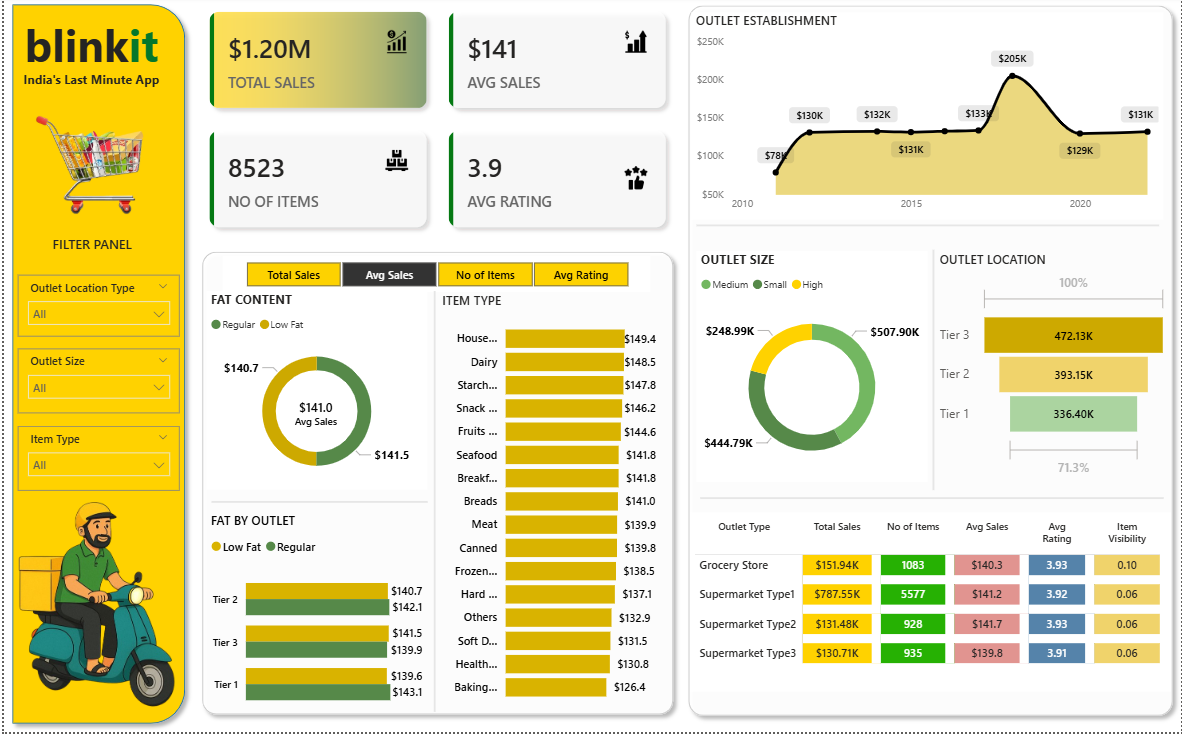

Layout of this report page (visuals, bound fields, positions):
{"tool":"powerbi","page":{"name":"Page 1","canvas":[1280,800],"ordinal":0},"visuals":[{"type":"shape","box":[0,0,206,800],"z":0},{"type":"textbox","box":[252.7,394.6,263.5,141.9],"z":1000},{"type":"textbox","box":[17.6,14.9,164.9,82.4],"z":2000},{"type":"textbox","box":[16.2,75.7,159.5,35.1],"z":3000},{"type":"shape","box":[206,268.7,529.9,520.9],"z":4000},{"type":"donutChart","title":"FAT CONTENT","fields":{"Y":["BlinkIT Grocery Data.Avg Sales"],"Category":["BlinkIT Grocery Data.Item Fat Content"]},"box":[220,321.2,240,216.2],"z":5000},{"type":"slicer","fields":{"Values":["Metrics.Metrics"]},"box":[237.8,282.6,464.7,39.4],"z":6000},{"type":"cardVisual","fields":{"Data":["BlinkIT Grocery Data.Avg Sales"]},"box":[293.8,421.2,91.2,61.2],"z":7000},{"type":"clusteredBarChart","title":"FAT BY OUTLET","fields":{"Y":["BlinkIT Grocery Data.Avg Sales"],"Category":["BlinkIT Grocery Data.Outlet Location Type"],"Series":["BlinkIT Grocery Data.Item Fat Content"]},"box":[220,561.2,240,230],"z":8000},{"type":"shape","box":[225,521.2,235,56.2],"z":9000},{"type":"shape","box":[446.2,320,45,457.5],"z":10000},{"type":"barChart","title":"ITEM TYPE","fields":{"Y":["BlinkIT Grocery Data.Avg Sales"],"Category":["BlinkIT Grocery Data.Item Type"]},"box":[471.2,322.5,242.5,455],"z":11000},{"type":"shape","box":[735.7,1.4,544.3,790],"z":12000},{"type":"lineChart","title":"OUTLET ESTABLISHMENT","fields":{"Y":["BlinkIT Grocery Data.Total Sales"],"Category":["BlinkIT Grocery Data.Outlet Establishment Year"]},"box":[747.1,17.1,512.9,225.7],"z":13000},{"type":"shape","box":[752.9,221.4,502.9,55.7],"z":14000},{"type":"donutChart","title":"OUTLET SIZE","fields":{"Y":["BlinkIT Grocery Data.Total Sales"],"Category":["BlinkIT Grocery Data.Outlet Size"]},"box":[752.5,277.5,251.2,251.2],"z":15000},{"type":"shape","box":[987.5,276.2,45,261.2],"z":16000},{"type":"funnel","title":"OUTLET LOCATION","fields":{"Category":["BlinkIT Grocery Data.Outlet Location Type"],"Y":["Sum(BlinkIT Grocery Data.Sales)"]},"box":[1012.5,277.5,257.5,251.2],"z":17000},{"type":"shape","box":[756.2,517.5,503.8,56.2],"z":18000},{"type":"pivotTable","fields":{"Values":["BlinkIT Grocery Data.Total Sales","BlinkIT Grocery Data.No of Items","BlinkIT Grocery Data.Avg Sales","BlinkIT Grocery Data.Avg Rating","Avg(BlinkIT Grocery Data.Item Visibility)"],"Rows":["BlinkIT Grocery Data.Outlet Type"]},"box":[746.2,561.2,522.5,195],"z":19000},{"type":"slicer","fields":{"Values":["BlinkIT Grocery Data.Outlet Location Type"]},"box":[15,302.5,176.2,67.5],"z":20000},{"type":"slicer","fields":{"Values":["BlinkIT Grocery Data.Outlet Size"]},"box":[15,382.5,176.2,70],"z":21000},{"type":"slicer","fields":{"Values":["BlinkIT Grocery Data.Item Type"]},"box":[15,467.5,176.2,70],"z":22000},{"type":"textbox","box":[32.6,255.4,126.4,40.8],"z":23000},{"type":"image","box":[0,510,206,290],"z":24000},{"type":"image","box":[17.8,98.9,158.9,156.7],"z":25000},{"type":"cardVisual","fields":{"Data":["BlinkIT Grocery Data.Total Sales","BlinkIT Grocery Data.Avg Sales","BlinkIT Grocery Data.No of Items","BlinkIT Grocery Data.Avg Rating"]},"box":[206,0,530,269],"z":26000}]}

Visuals, with their boxes in screenshot pixels (x1, y1, x2, y2), scaled from the page's 1280x800 canvas onto the 1182x735 screenshot:
shape: locate(0, 0, 190, 734)
textbox: locate(233, 363, 477, 493)
textbox: locate(16, 14, 169, 89)
textbox: locate(15, 70, 162, 102)
shape: locate(190, 247, 680, 725)
"FAT CONTENT" donutChart: locate(203, 295, 425, 494)
slicer - Metrics.Metrics: locate(220, 260, 649, 296)
cardVisual - BlinkIT Grocery Data.Avg Sales: locate(271, 387, 356, 443)
"FAT BY OUTLET" clusteredBarChart: locate(203, 516, 425, 727)
shape: locate(208, 479, 425, 530)
shape: locate(412, 294, 454, 714)
"ITEM TYPE" barChart: locate(435, 296, 659, 714)
shape: locate(679, 1, 1181, 727)
"OUTLET ESTABLISHMENT" lineChart: locate(690, 16, 1164, 223)
shape: locate(695, 203, 1160, 255)
"OUTLET SIZE" donutChart: locate(695, 255, 927, 486)
shape: locate(912, 254, 953, 494)
"OUTLET LOCATION" funnel: locate(935, 255, 1173, 486)
shape: locate(698, 475, 1164, 527)
pivotTable - BlinkIT Grocery Data.Total Sales x BlinkIT Grocery Data.No of Items: locate(689, 516, 1172, 695)
slicer - BlinkIT Grocery Data.Outlet Location Type: locate(14, 278, 177, 340)
slicer - BlinkIT Grocery Data.Outlet Size: locate(14, 351, 177, 416)
slicer - BlinkIT Grocery Data.Item Type: locate(14, 430, 177, 494)
textbox: locate(30, 235, 147, 272)
image: locate(0, 469, 190, 734)
image: locate(16, 91, 163, 235)
cardVisual - BlinkIT Grocery Data.Total Sales x BlinkIT Grocery Data.Avg Sales: locate(190, 0, 680, 247)
